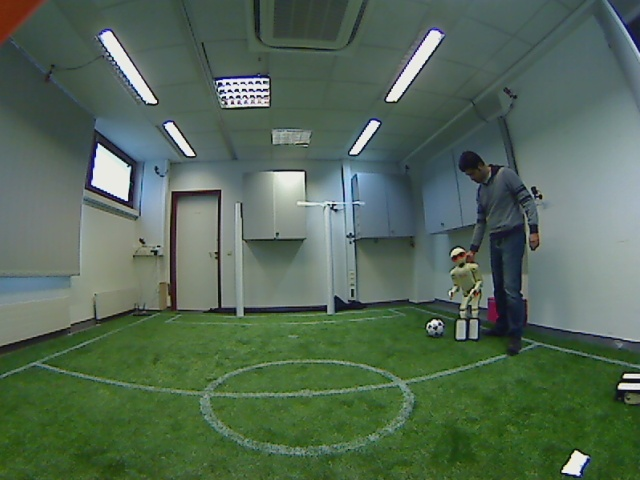ball: (422, 314, 447, 340)
robot: (442, 246, 488, 343)
